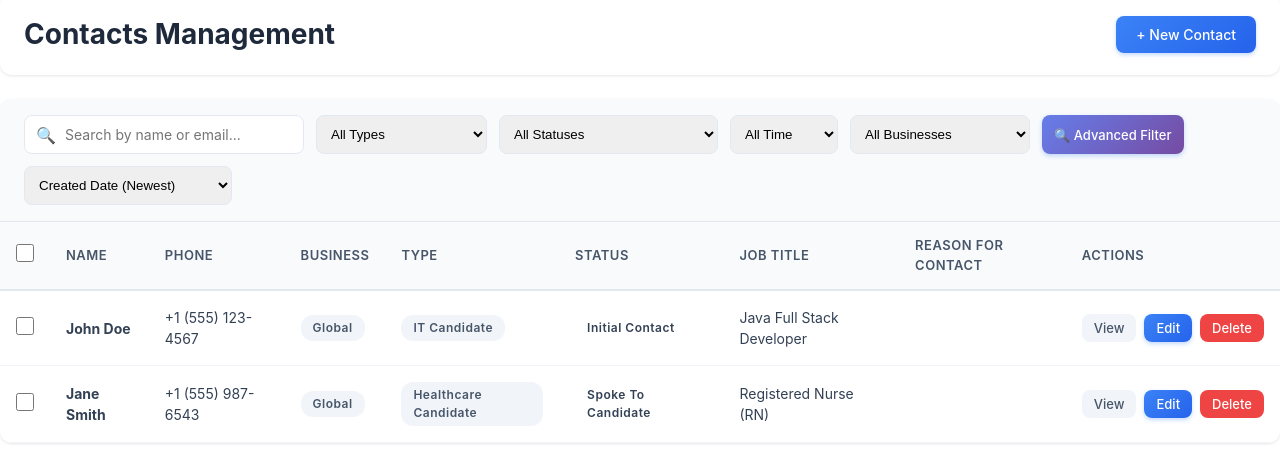
Test case: ContactsManager Search and Filter › should filter contacts by email search
Type "jane.smith" into the field with placeholder "Search by name or email..." at point(164, 134), box [24,115,304,154]
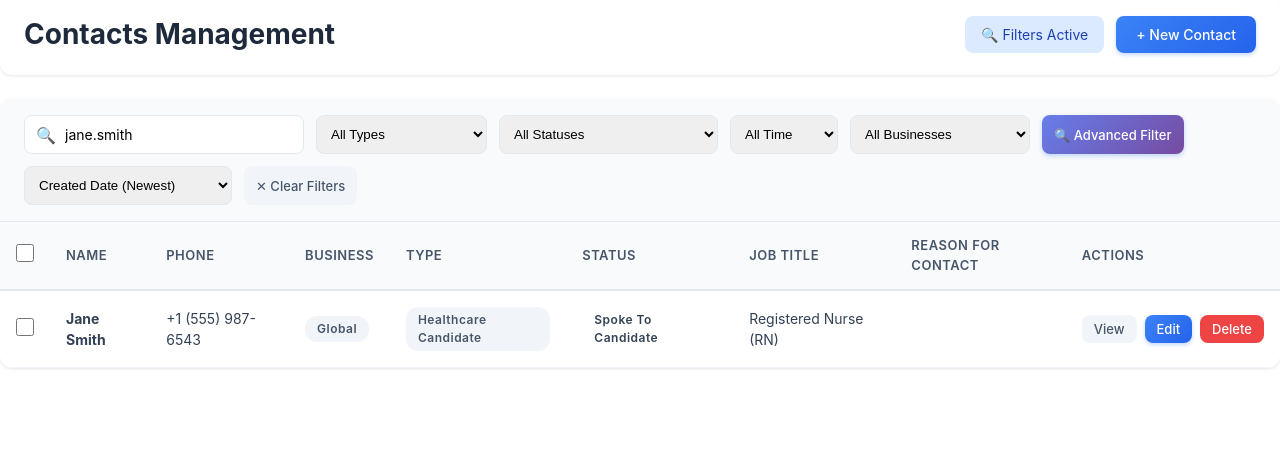
Expected: the text "Jane Smith" is shown, [66,310,106,348]
Now the text "John Doe" is gone
